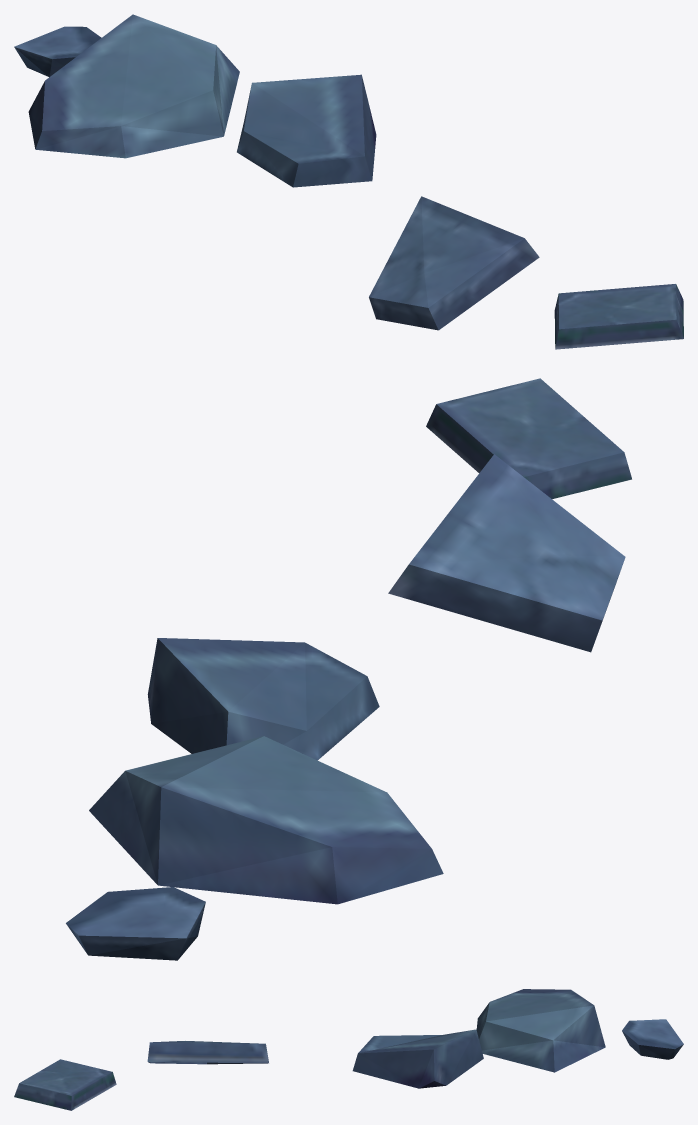
The model's file is Area09_23.fbx.
3 views of the same model, one above another, from view 1: azimuth 30°, elevation 25°; view 2: azimuth 150°, elevation 25°; view 3: azimuth 270°, elevation 25° (orthographic). The views are drawn at different scales.
Parts seen in each view (by area): view 1: Area09_23; view 2: Area09_23; view 3: Area09_23.
Boxes of the visible parts, x1,y1,x2,y2 form: Area09_23: (14,14,683,349); Area09_23: (66,378,631,960); Area09_23: (14,989,683,1110).
Bounding box in the file's own units: 411 × 116 × 1018.
Materials: 1 (1 with a texture image).
